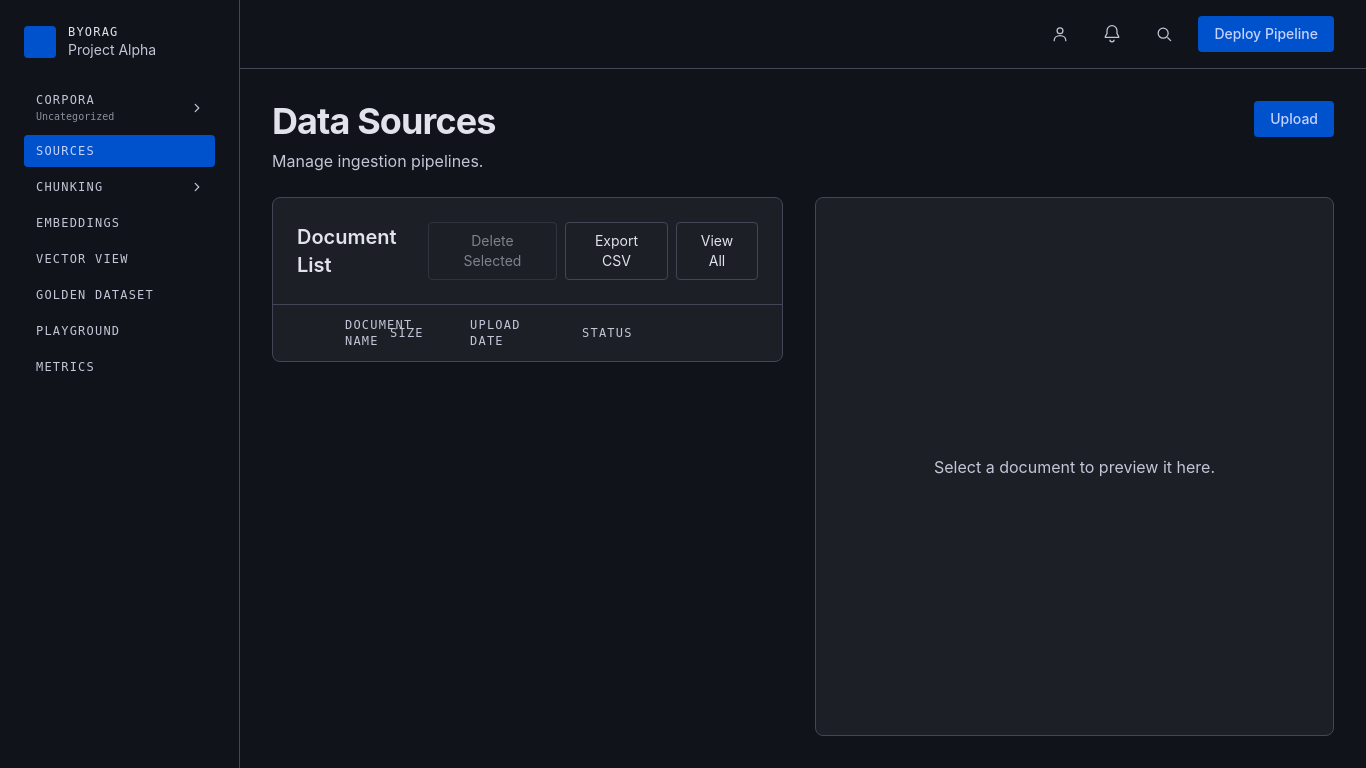
Test case: CorporaScreen navigation (009-corpora-screen US1) › navigates to a dedicated Corpora screen, distinct from the sidebar quick-switcher list
The width and height of the screenshot is (1366, 768).
Click the text "CORPORA" at (66, 100), box [36, 92, 95, 108]
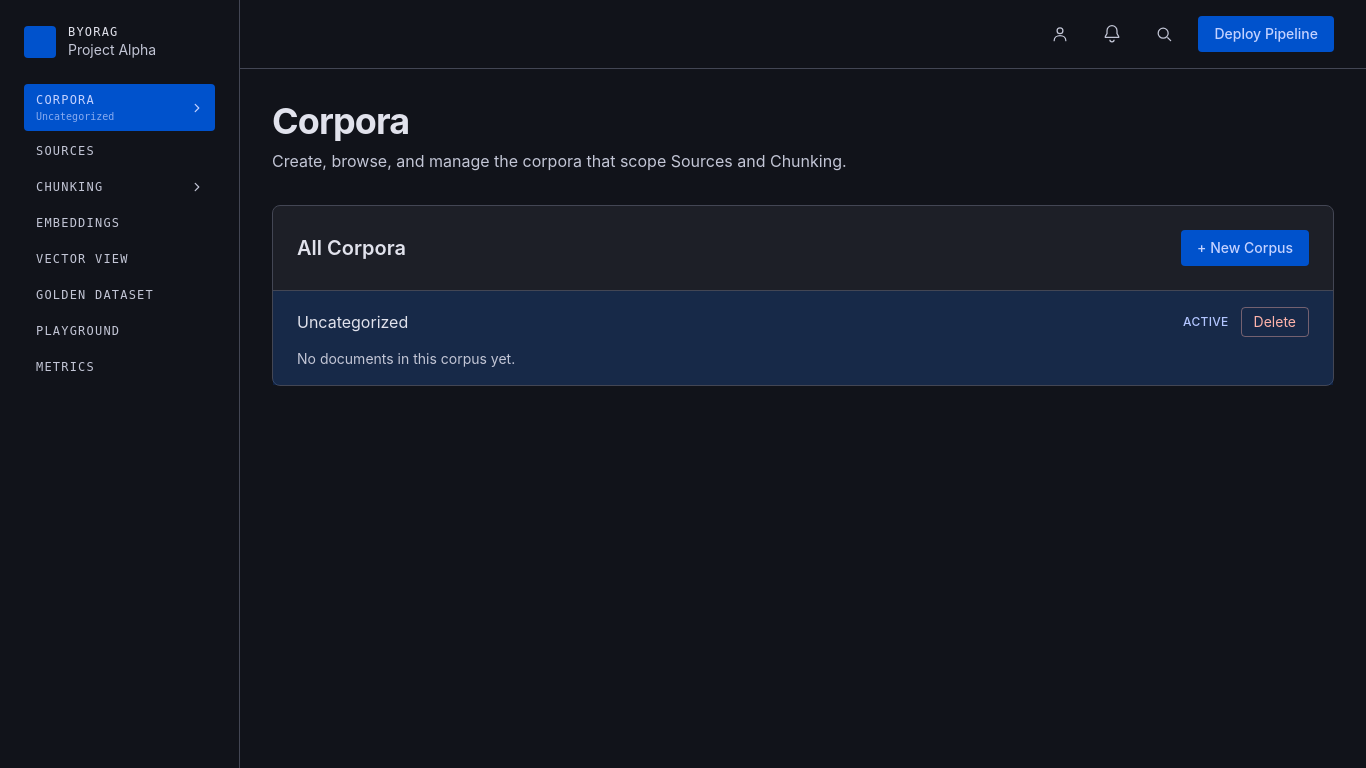
expect the heading "Corpora" is shown: met, box [272, 99, 409, 143]
expect the heading "Data Sources" is gone: met
